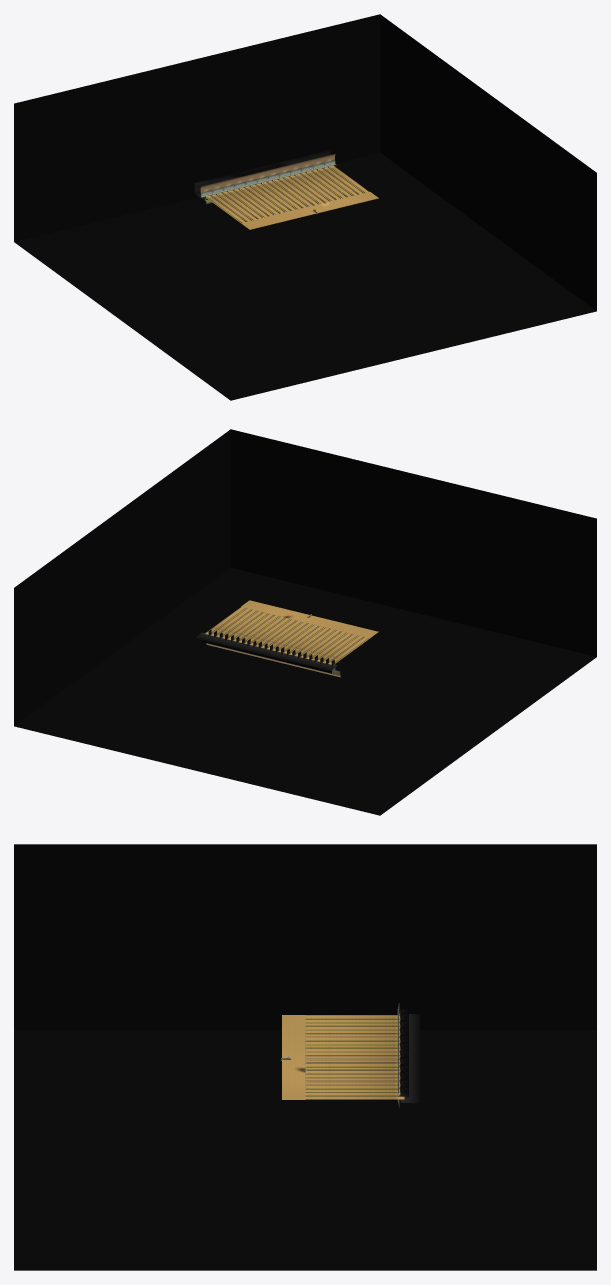
Rendered from bwg_field__bwg_field_front.glb.
The picture shows the model from 3 angles, top to bottom: view 1: azimuth 30°, elevation 25°; view 2: azimuth 150°, elevation 25°; view 3: azimuth 270°, elevation 25°; orthographic projection. The views are drawn at different scales.
Parts seen in each view (by area): view 1: polygon701, polygon1, polygon133, polygon0, polygon142, polygon6, polygon139, polygon16; view 2: polygon701, polygon1, polygon133, polygon139, polygon0, polygon142, polygon29; view 3: polygon701, polygon1, polygon133, polygon142, polygon0, polygon139.
Part boxes in pixels (<box>): polygon701: <box>14,14,596,400</box>; polygon1: <box>206,165,378,229</box>; polygon133: <box>207,165,369,222</box>; polygon0: <box>241,192,378,229</box>; polygon142: <box>205,166,364,222</box>; polygon6: <box>200,154,335,192</box>; polygon139: <box>194,150,337,198</box>; polygon16: <box>200,160,335,197</box>; polygon701: <box>14,429,596,815</box>; polygon1: <box>205,607,367,664</box>; polygon133: <box>204,607,368,663</box>; polygon139: <box>195,630,337,671</box>; polygon0: <box>241,600,378,637</box>; polygon142: <box>211,608,369,663</box>; polygon29: <box>202,640,340,677</box>; polygon701: <box>14,844,596,1270</box>; polygon1: <box>305,1016,404,1099</box>; polygon133: <box>305,1015,404,1099</box>; polygon142: <box>305,1010,401,1096</box>; polygon0: <box>282,1015,305,1099</box>; polygon139: <box>400,1009,420,1103</box>.
Bounding box in the file's own units: 1101 × 398 × 1128.
Materials: 18 (18 with a texture image).
